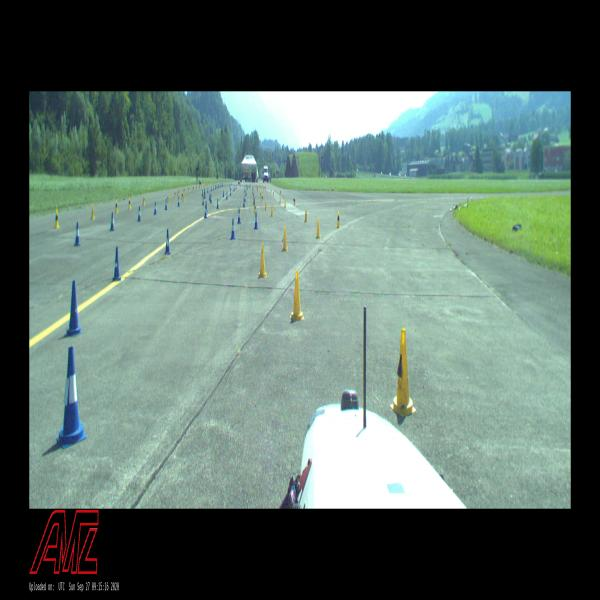blue_cone: (56, 346, 87, 448), (64, 280, 83, 337), (113, 246, 121, 280), (164, 228, 171, 255), (74, 222, 81, 246), (230, 218, 235, 240), (110, 212, 114, 231), (254, 212, 258, 230), (237, 208, 241, 224), (204, 204, 208, 218), (138, 206, 141, 221), (154, 202, 157, 215), (165, 198, 167, 210), (217, 198, 219, 209), (178, 196, 180, 206), (243, 198, 245, 208), (202, 196, 204, 206), (226, 192, 228, 200), (210, 195, 212, 203), (204, 190, 206, 198), (209, 193, 211, 201), (253, 197, 255, 205), (207, 187, 209, 193), (223, 190, 224, 197), (202, 190, 203, 196)
yellow_cone: (390, 328, 416, 416), (290, 270, 305, 321), (259, 243, 267, 278), (282, 226, 288, 252), (54, 209, 60, 228), (316, 219, 321, 238), (91, 204, 95, 220), (337, 210, 340, 228), (305, 208, 308, 222), (115, 200, 118, 213), (128, 197, 131, 209), (271, 204, 273, 217), (143, 195, 145, 206), (254, 202, 256, 213), (265, 200, 267, 210), (284, 200, 286, 208), (177, 188, 179, 196), (279, 196, 281, 204), (183, 187, 185, 194), (188, 186, 190, 192), (168, 194, 169, 204), (294, 197, 295, 205), (262, 194, 263, 202), (175, 190, 176, 198), (183, 194, 184, 202), (182, 192, 183, 199), (260, 191, 261, 198), (253, 192, 254, 199), (193, 185, 194, 191), (196, 184, 197, 189), (199, 185, 200, 189), (202, 183, 202, 188)
